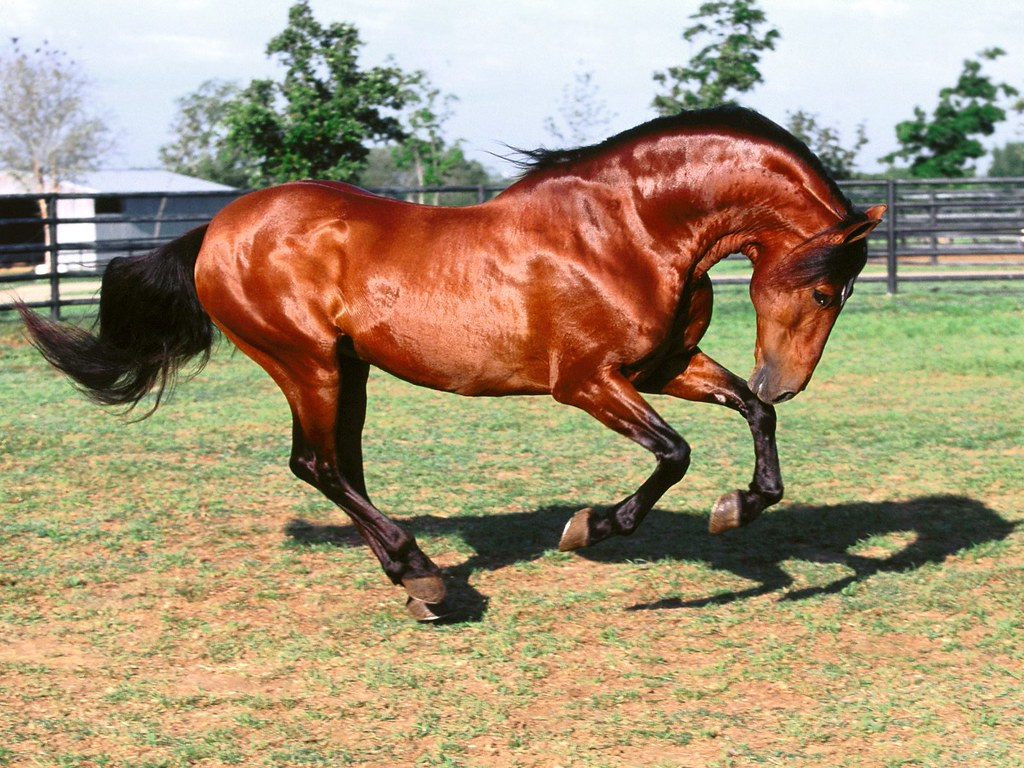horse: (35, 81, 890, 645)
